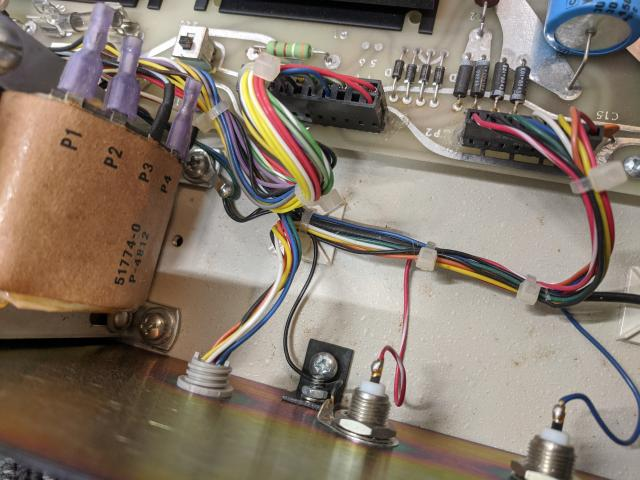CRS: (134, 310, 165, 340), (310, 353, 338, 380), (184, 151, 207, 178), (622, 151, 640, 183)
